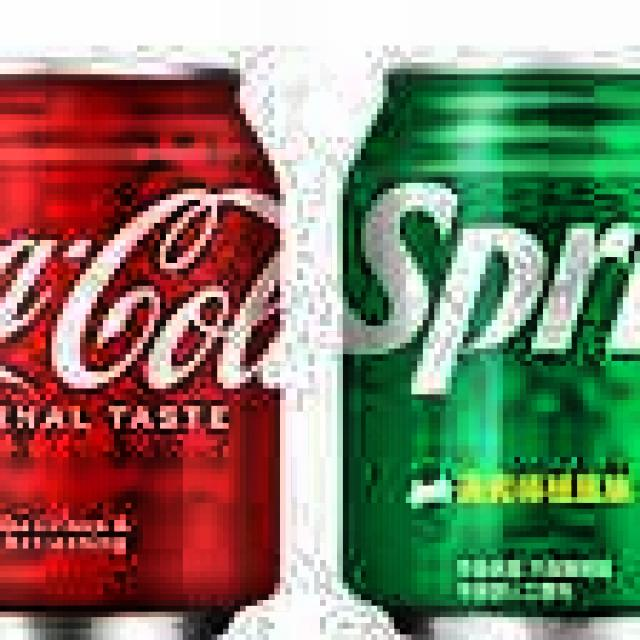metal: (320, 23, 640, 640), (0, 34, 303, 640)
